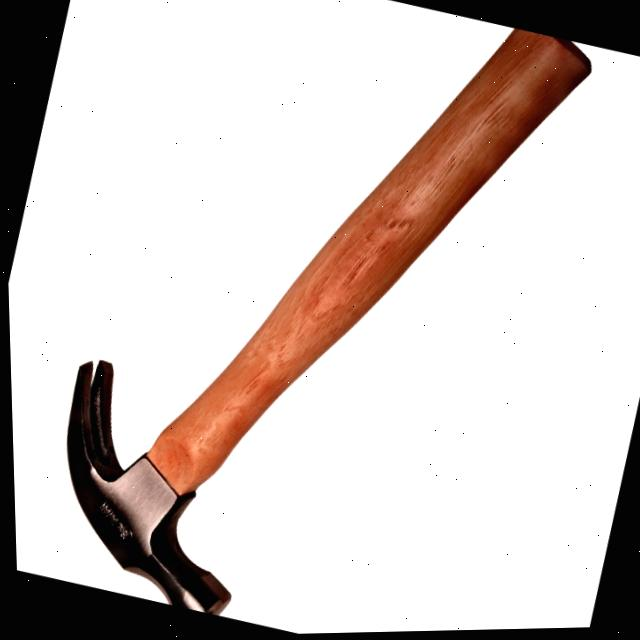hammer: (6, 0, 623, 640)
